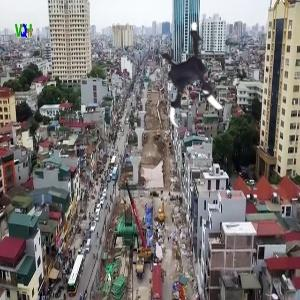drone: (141, 23, 254, 136)
